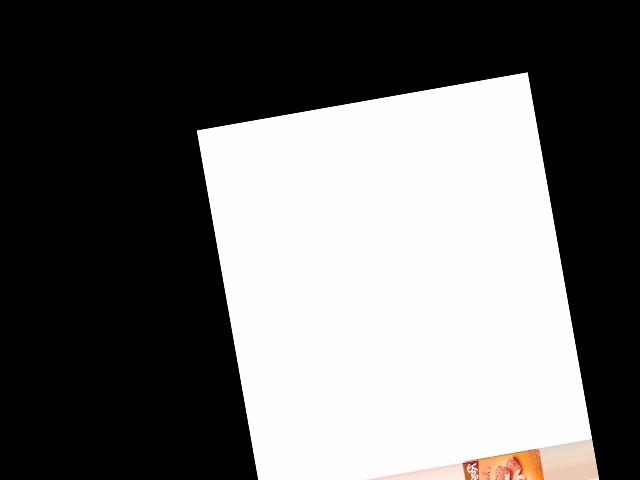chocolate: (462, 446, 547, 480)
